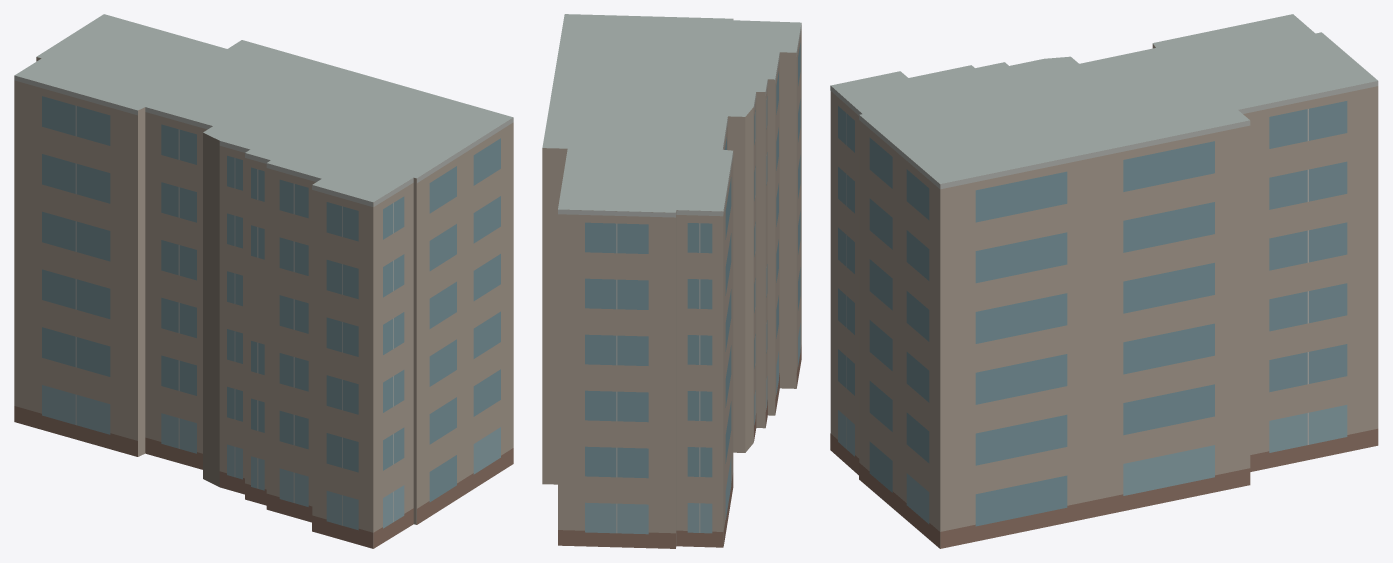
File: survey-upis-32742897.glb
The picture shows the model from 3 angles, left to right: view 1: azimuth 30°, elevation 25°; view 2: azimuth 150°, elevation 25°; view 3: azimuth 270°, elevation 25°; orthographic projection. The views are drawn at different scales.
Visible parts, largest first — view 1: survey-upis-32742897.tmp; view 2: survey-upis-32742897.tmp; view 3: survey-upis-32742897.tmp.
Boxes of the visible parts, <box> form: survey-upis-32742897.tmp: <box>14,14,513,548</box>; survey-upis-32742897.tmp: <box>542,14,801,548</box>; survey-upis-32742897.tmp: <box>830,14,1378,548</box>.
Size of the model in its own units: 17.22 by 17.2 by 23.43.
